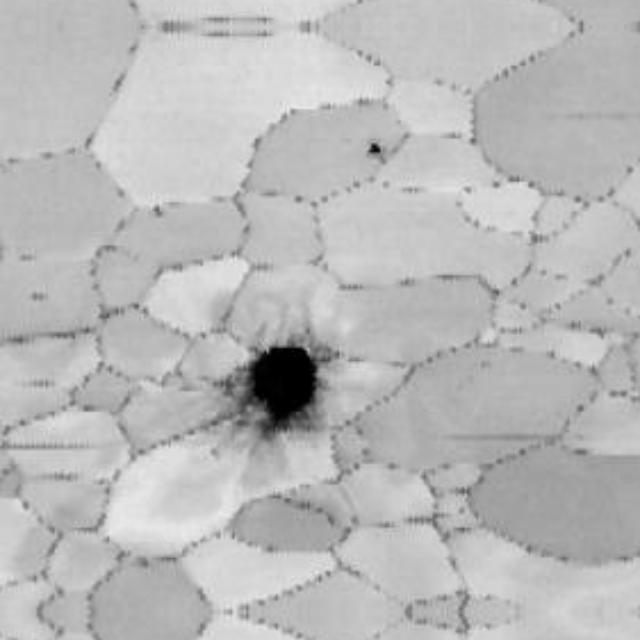good_void: (218, 342, 319, 449), (367, 140, 384, 159), (148, 201, 166, 218)
